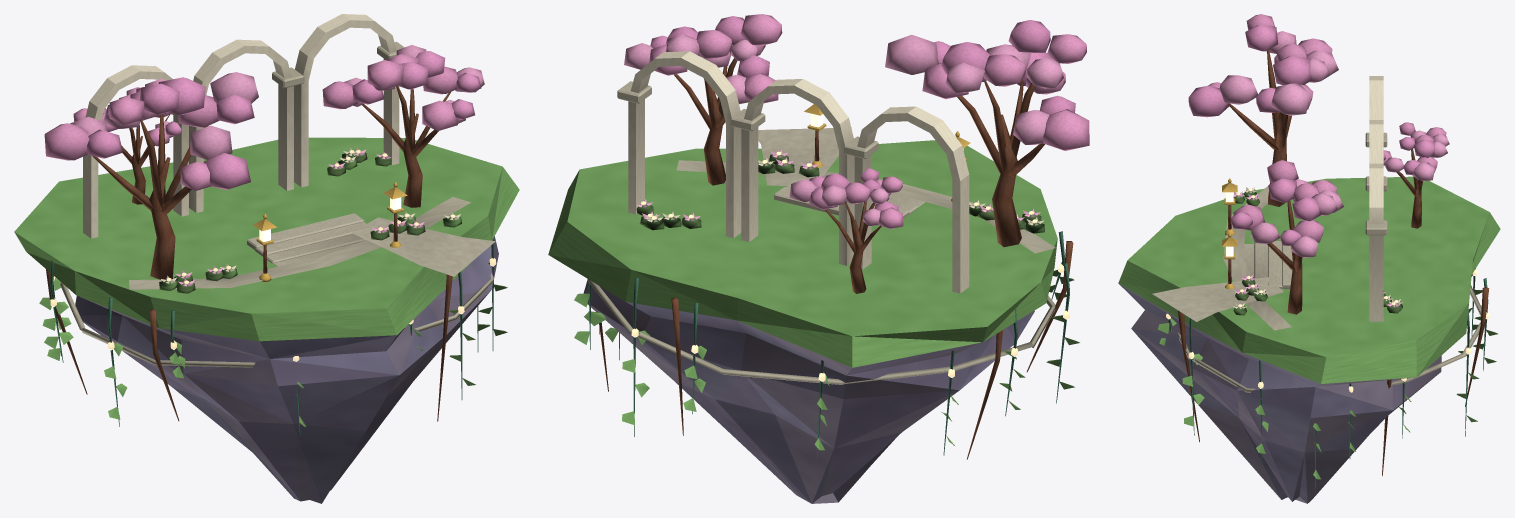
Rendered from sky-garden-low.glb.
3 renders of one model, left to right at view 1: azimuth 30°, elevation 25°; view 2: azimuth 150°, elevation 25°; view 3: azimuth 270°, elevation 25°, orthographic. The views are drawn at different scales.
Parts seen in each view (by area): view 1: sky-garden; view 2: sky-garden; view 3: sky-garden.
Boxes of the visible parts, x1,y1,x2,y2 form: sky-garden: (14,14,519,503); sky-garden: (548,14,1089,503); sky-garden: (1118,14,1500,503).
Bounding box in the file's own units: 13.21 × 12.43 × 10.68.
9 materials, 9 textured.
